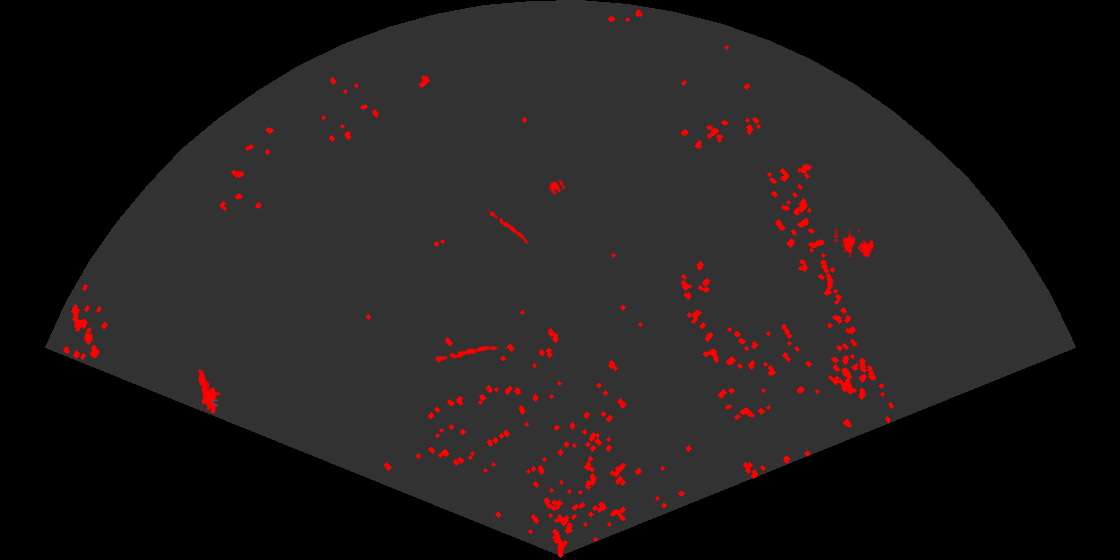ball: (547, 178, 567, 196)
cage: (834, 229, 876, 259)
chain: (486, 206, 534, 247), (432, 344, 499, 364)
frogman: (196, 368, 222, 413)
